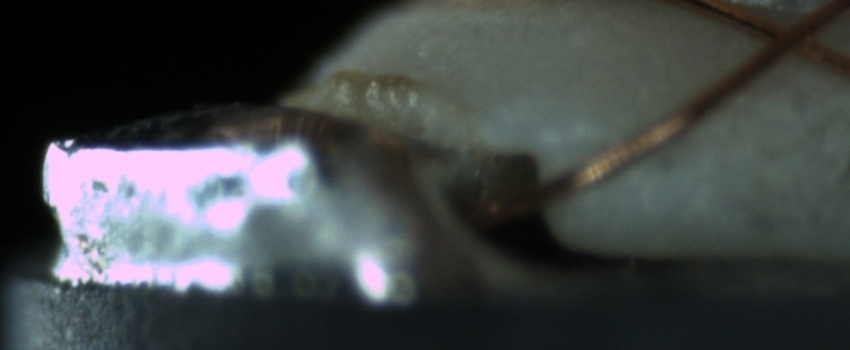CL: (748, 3, 836, 68)
